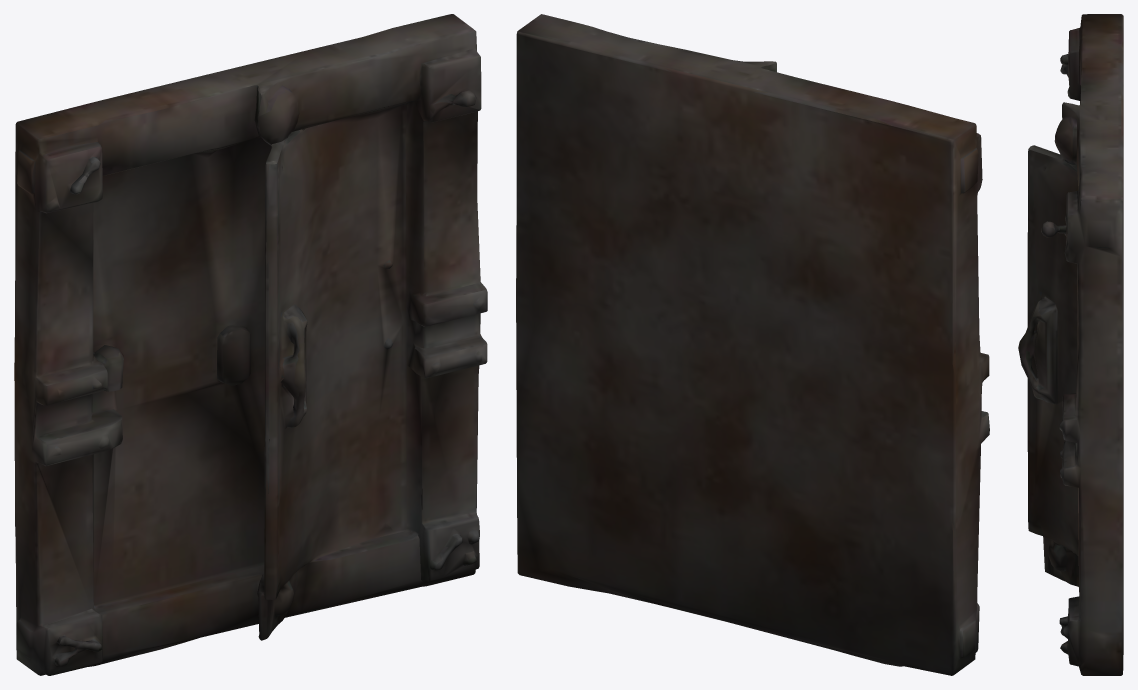
The model's file is rustic-iron-cell-door-v001.glb.
The picture shows the model from 3 angles, left to right: view 1: azimuth 30°, elevation 25°; view 2: azimuth 150°, elevation 25°; view 3: azimuth 270°, elevation 25°; orthographic projection. The views are drawn at different scales.
Visible parts, largest first — view 1: rustic-iron-cell-door; view 2: rustic-iron-cell-door; view 3: rustic-iron-cell-door.
Part boxes in pixels (x1,y1,x2,y2): rustic-iron-cell-door: (14, 14, 487, 675); rustic-iron-cell-door: (516, 14, 989, 675); rustic-iron-cell-door: (1018, 14, 1123, 675).
Size of the model in its own units: 1.9 by 2.22 by 0.4427.
1 material, 1 textured.
